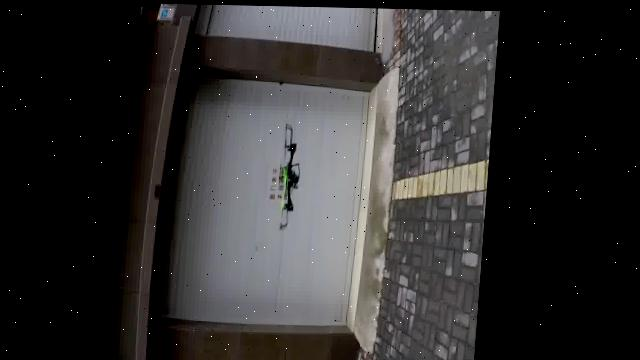drone: (266, 121, 312, 233)
